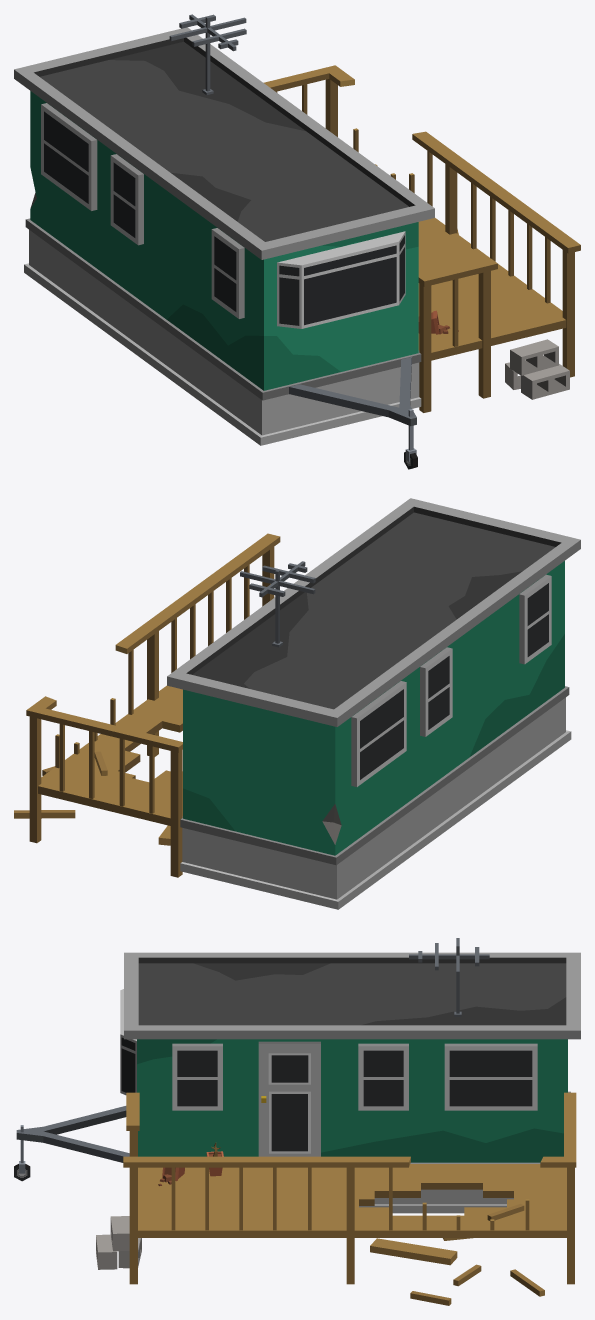
The model's file is SA_Bld_Trailer_Damaged_02.gltf.
The picture shows the model from 3 angles, top to bottom: view 1: azimuth 30°, elevation 25°; view 2: azimuth 150°, elevation 25°; view 3: azimuth 270°, elevation 25°; orthographic projection. The views are drawn at different scales.
Visible parts, largest first — view 1: SA_Bld_Trailer_Damaged_02; view 2: SA_Bld_Trailer_Damaged_02; view 3: SA_Bld_Trailer_Damaged_02.
Part boxes in pixels (left/top/right/bottom): SA_Bld_Trailer_Damaged_02: left=14, top=14, right=580, bottom=469; SA_Bld_Trailer_Damaged_02: left=14, top=498, right=580, bottom=909; SA_Bld_Trailer_Damaged_02: left=14, top=938, right=580, bottom=1305.
Bounding box in the file's own units: 10.31 × 7.29 × 14.77.
1 material, 1 textured.
